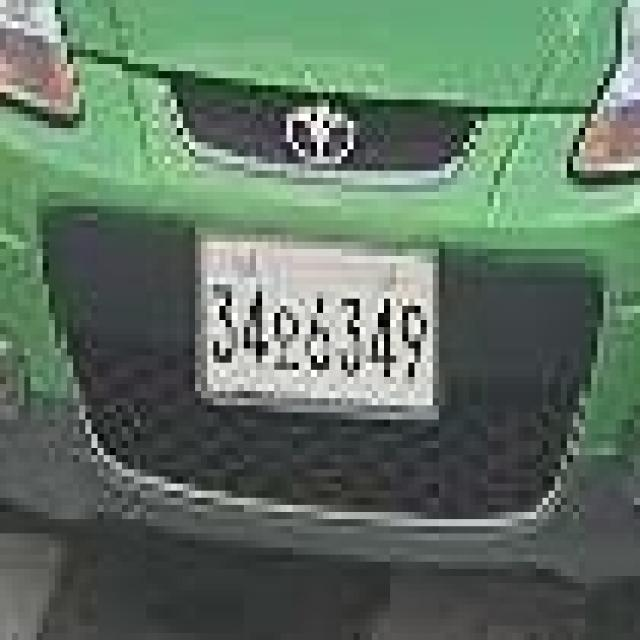3: (207, 284, 244, 370), (335, 291, 366, 377)
4: (366, 299, 396, 384), (238, 292, 268, 369)
6: (305, 291, 335, 377)
9: (396, 299, 433, 391)
license_plate: (189, 228, 451, 420)
o: (262, 299, 299, 377)
